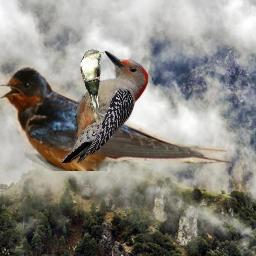Cuckoo: (80, 49, 104, 124)
Swallow: (0, 65, 232, 171)
Woodpecker: (62, 51, 149, 163)
